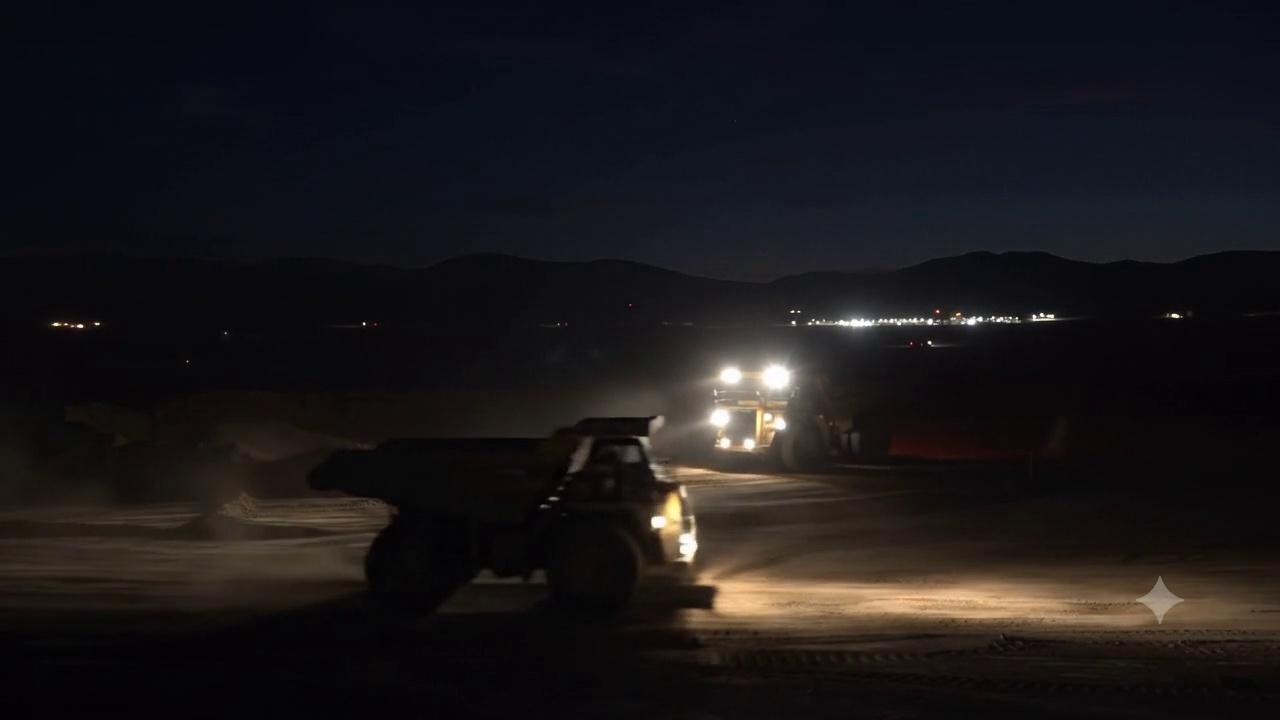CAEX: (305, 416, 710, 622)
